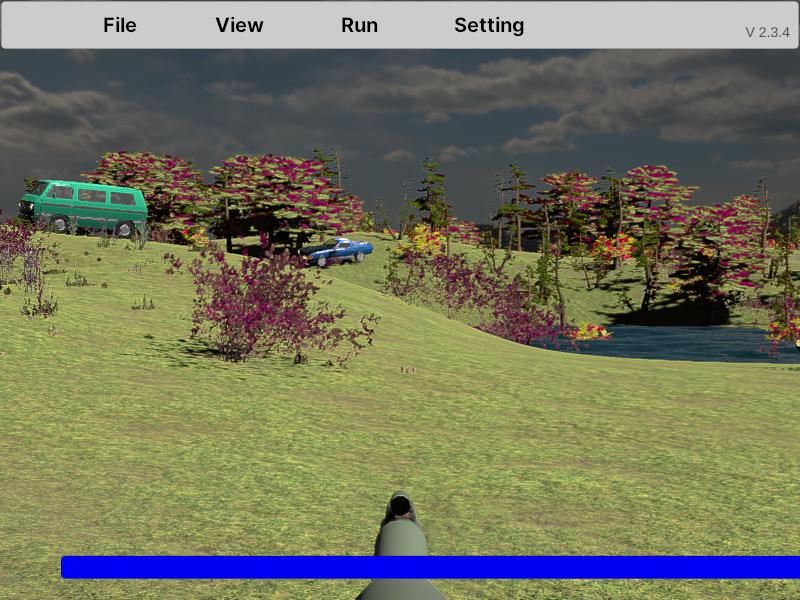car: (17, 181, 147, 240), (299, 236, 374, 268)
